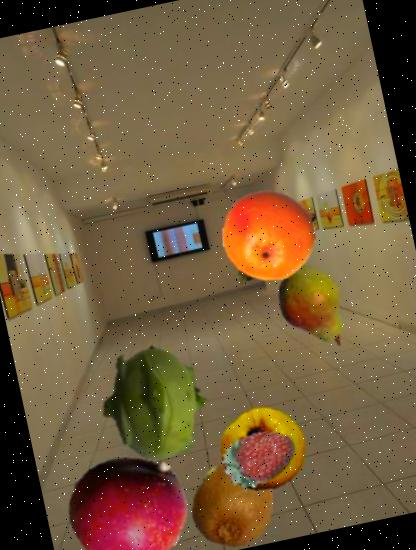Eggplant: (211, 194, 319, 302)
Grapefruit: (214, 180, 324, 290)
Kiwi: (179, 450, 287, 550)
Kohlrabi: (86, 334, 226, 472)
Nectarine: (58, 440, 198, 550)
Pear: (260, 254, 368, 362)
Quince: (212, 399, 316, 502)
Strawberry: (212, 410, 304, 502)
